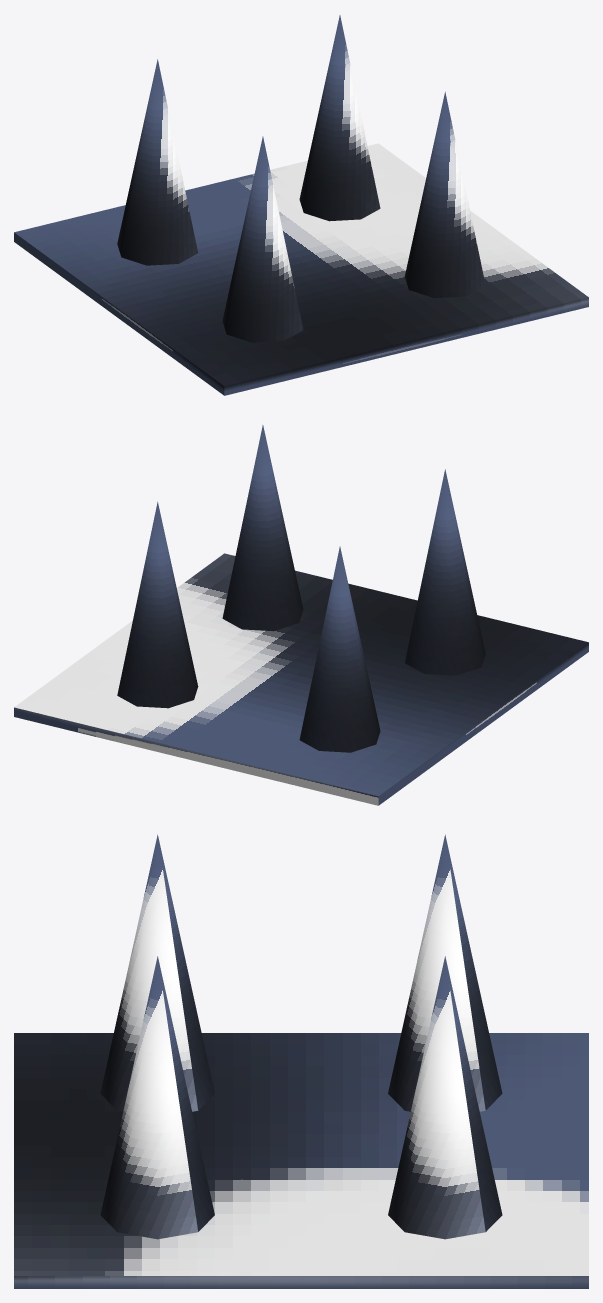
File: spikes.obj
3 views of the same model, one above another, from view 1: azimuth 30°, elevation 25°; view 2: azimuth 150°, elevation 25°; view 3: azimuth 270°, elevation 25° (orthographic). The views are drawn at different scales.
Parts seen in each view (by area): view 1: polySurface7; view 2: polySurface7; view 3: polySurface7.
Boxes of the visible parts, x1,y1,x2,y2 form: polySurface7: (14, 15, 588, 395); polySurface7: (14, 425, 588, 805); polySurface7: (14, 834, 588, 1288).
Size of the model in its own units: 50 by 26.16 by 50.
